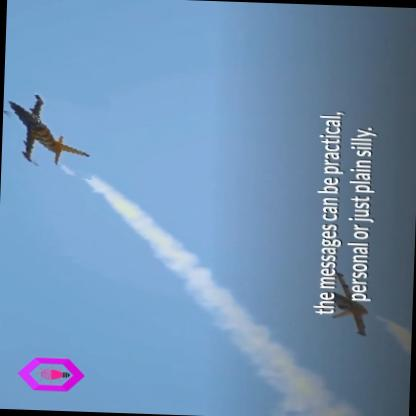plane: (1, 79, 107, 176)
